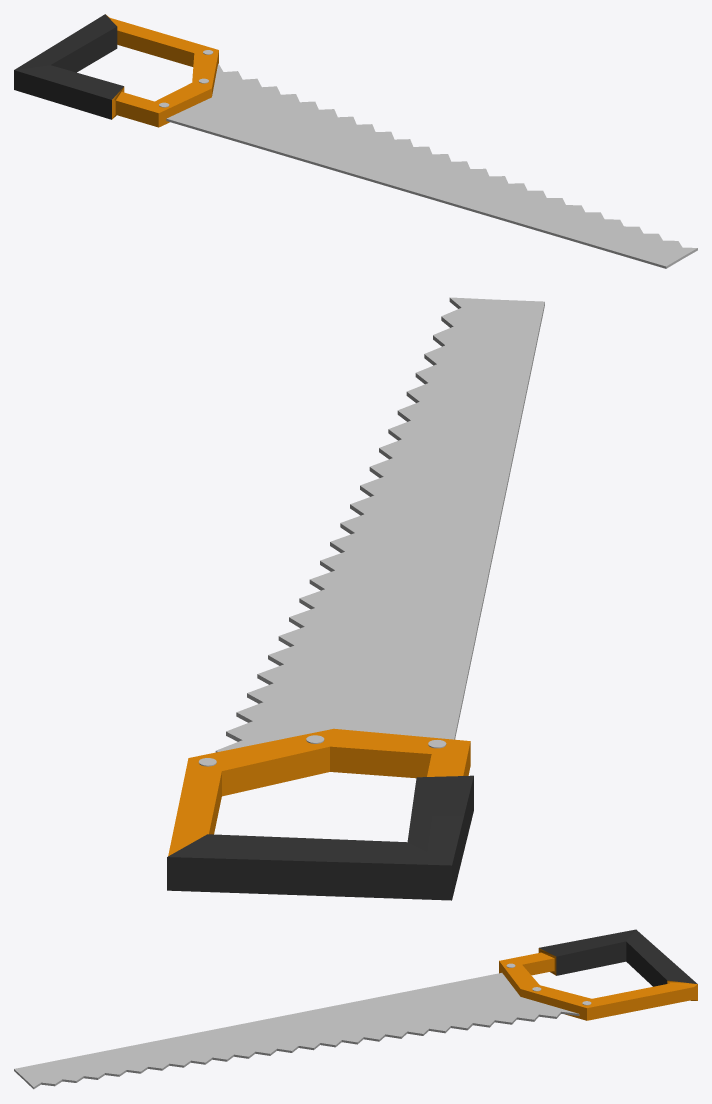
The model's file is 0yWnGjF_FHD.glb.
3 renders of one model, top to bottom at view 1: azimuth 30°, elevation 25°; view 2: azimuth 150°, elevation 25°; view 3: azimuth 270°, elevation 25°, orthographic. The views are drawn at different scales.
Visible parts, largest first — view 1: Cylinder004, Box004; view 2: Cylinder004, Box004; view 3: Cylinder004, Box004.
Part boxes in pixels (x1=…): Cylinder004: x1=159, y1=50, x2=697, y2=268; Box004: x1=14, y1=14, x2=218, y2=127; Cylinder004: x1=198, y1=297, x2=544, y2=766; Box004: x1=167, y1=728, x2=473, y2=900; Cylinder004: x1=14, y1=963, x2=591, y2=1089; Box004: x1=499, y1=929, x2=697, y2=1020.
Size of the model in its own units: 15.62 by 1 by 30.59.
